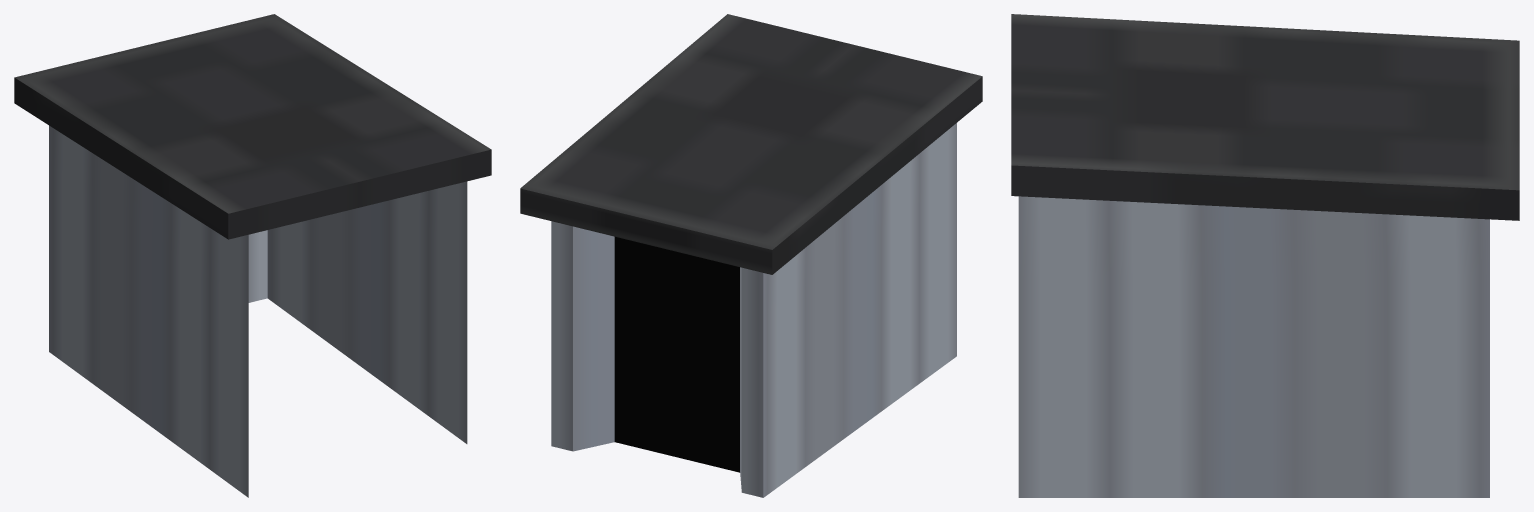
File: roof_window_v8a004.fbx
The picture shows the model from 3 angles, left to right: view 1: azimuth 30°, elevation 25°; view 2: azimuth 150°, elevation 25°; view 3: azimuth 270°, elevation 25°; orthographic projection. The views are drawn at different scales.
Visible parts, largest first — view 1: roof_window_v8a004; view 2: roof_window_v8a004; view 3: roof_window_v8a004.
Boxes of the visible parts, bbox=[...] form: roof_window_v8a004: bbox=[14, 14, 491, 497]; roof_window_v8a004: bbox=[520, 14, 982, 497]; roof_window_v8a004: bbox=[1011, 14, 1519, 497].
Bounding box in the file's own units: 147 × 156 × 209.
